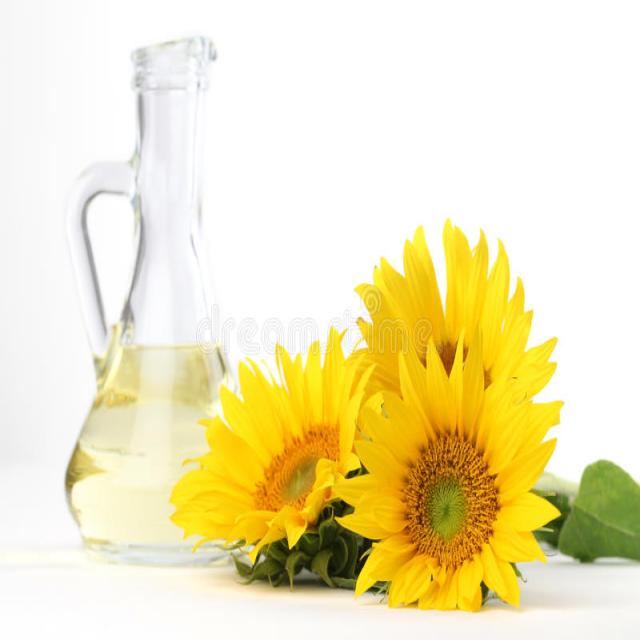sunflower: (352, 346, 556, 625), (186, 321, 374, 563)
